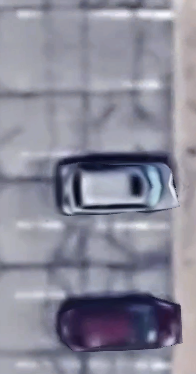Occupied: (17, 155, 171, 227)
Vacant: (17, 14, 172, 87), (18, 86, 172, 156), (17, 226, 172, 295), (18, 296, 169, 364)
